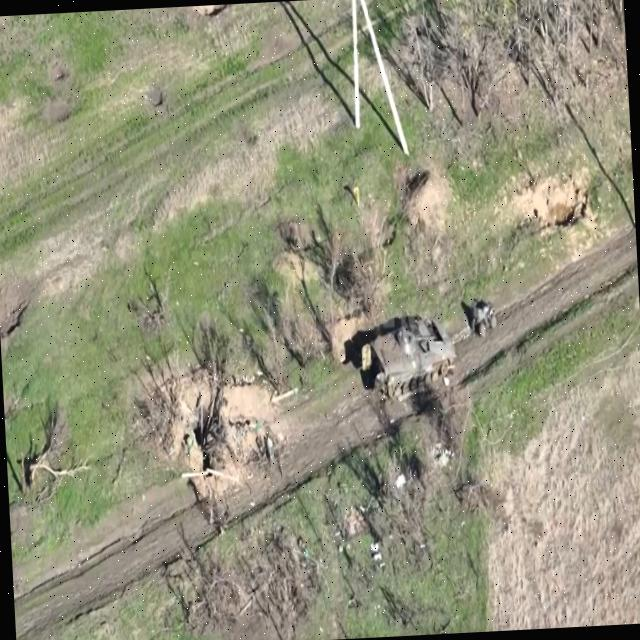AIFV: (360, 310, 461, 401)
Vehicle: (471, 297, 501, 345)
